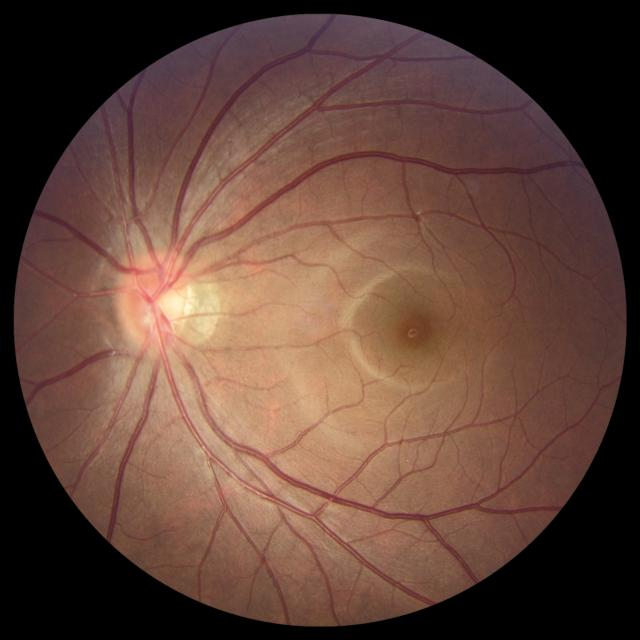OC: (143, 289, 179, 329)
OD: (115, 250, 190, 350)
